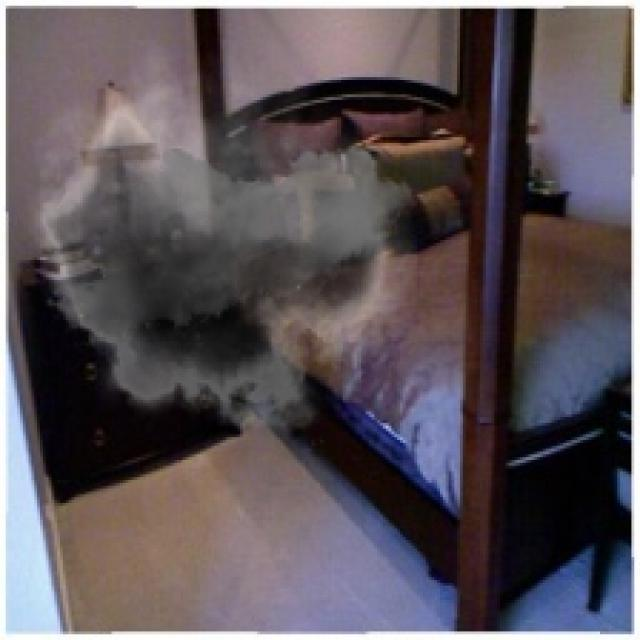Smoke: (12, 37, 417, 452)
